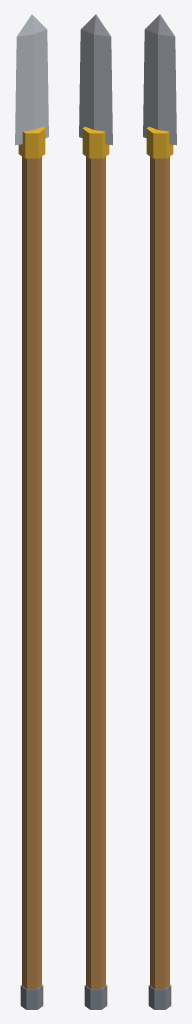
File: spear.fbx
3 renders of one model, left to right at view 1: azimuth 30°, elevation 25°; view 2: azimuth 150°, elevation 25°; view 3: azimuth 330°, elevation 25°, orthographic.
Visible parts, largest first — view 1: spear; view 2: spear; view 3: spear.
Part boxes in pixels (left/top/right/bottom): spear: left=15, top=14, right=48, bottom=1009; spear: left=79, top=14, right=112, bottom=1009; spear: left=143, top=14, right=176, bottom=1009.
Size of the model in its own units: 0.07 by 1.95 by 0.048.
